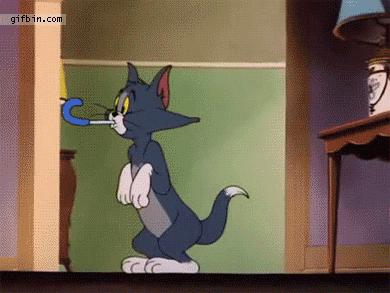tom: (89, 61, 251, 276)
